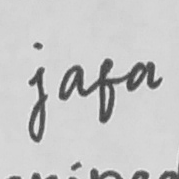a: (123, 59, 164, 94), (56, 61, 87, 102)
f: (94, 55, 119, 123)
j: (25, 64, 52, 146)
